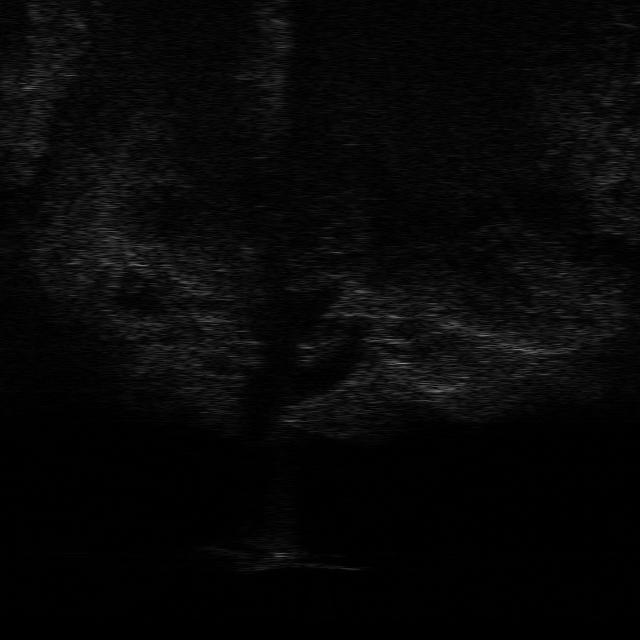plane: (209, 537, 365, 575)
